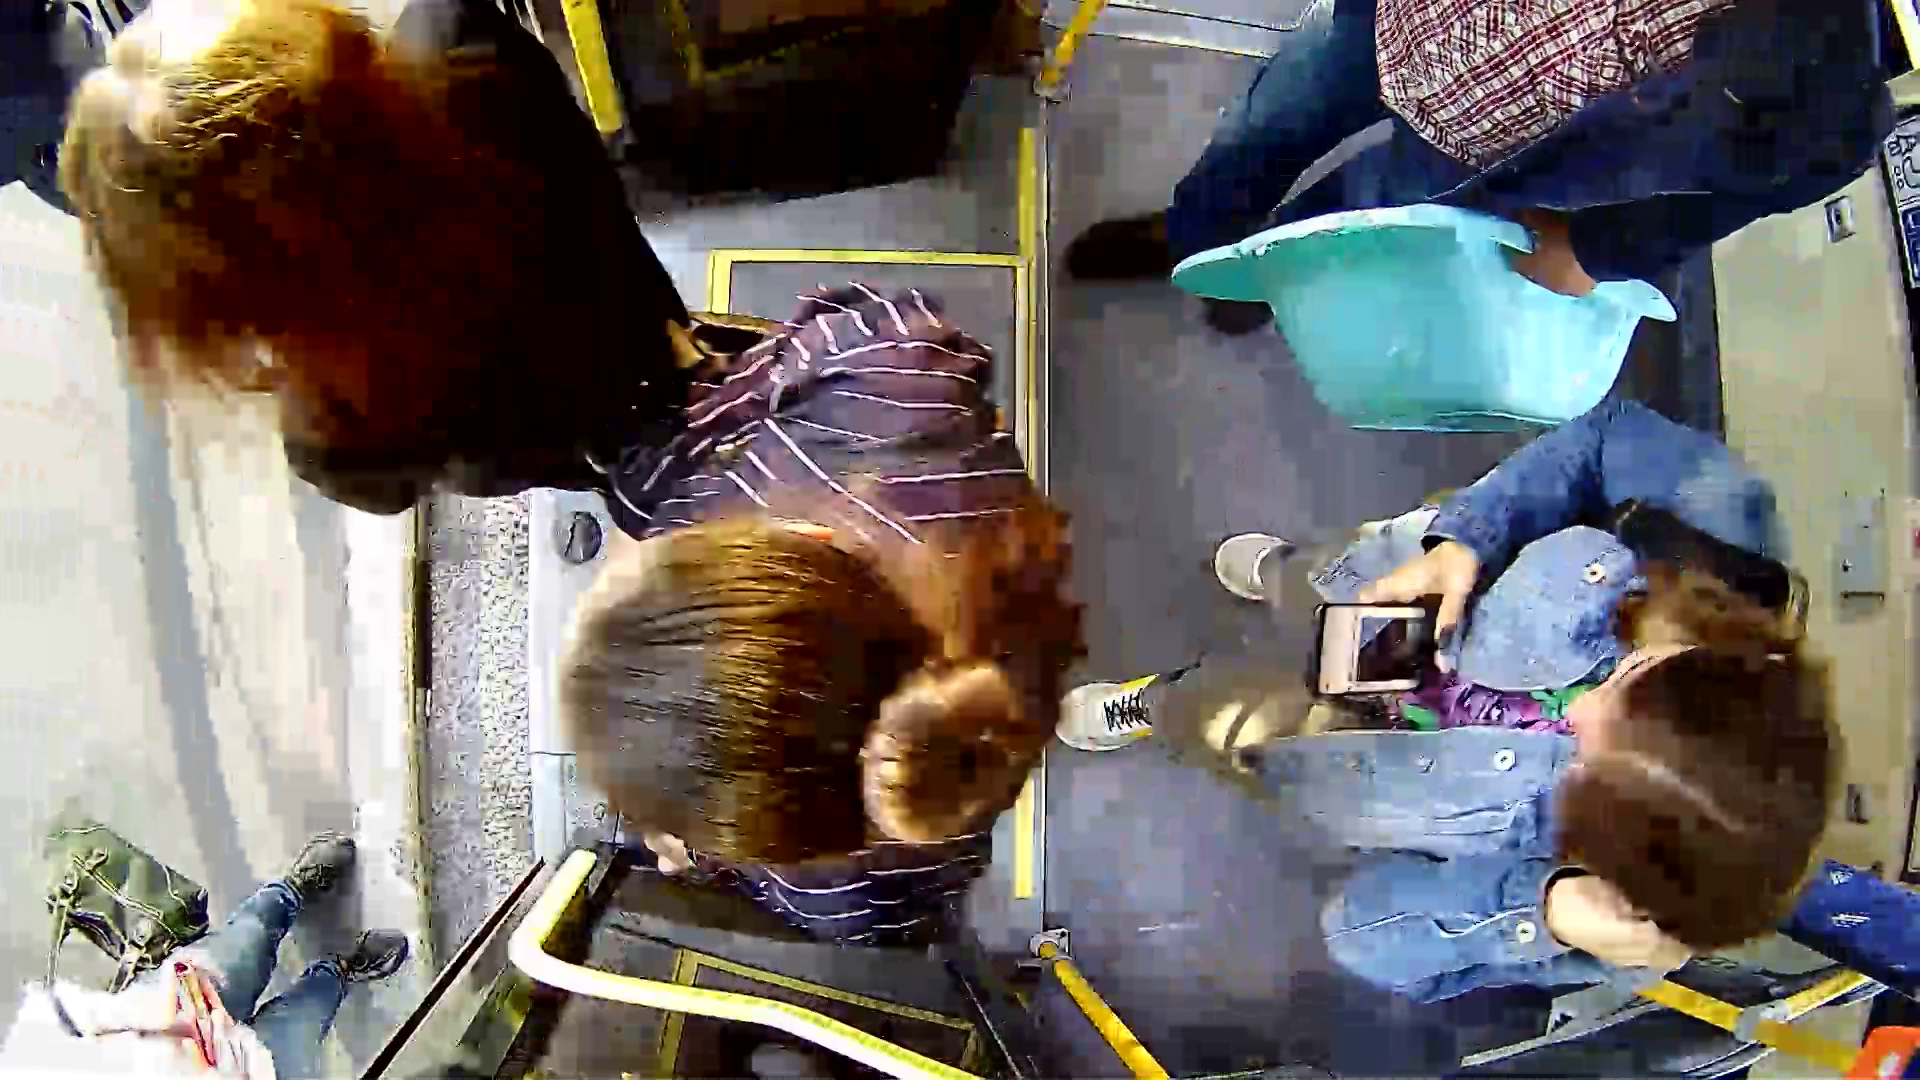person: (1196, 440, 1913, 981), (48, 9, 782, 526), (493, 382, 1137, 920)
